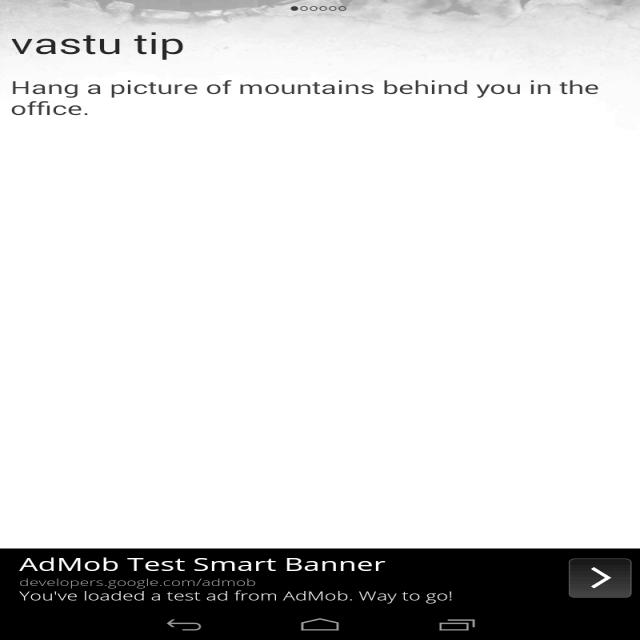Button: (562, 554, 637, 600)
TextView: (11, 76, 606, 96), (12, 580, 461, 602), (14, 552, 394, 574), (3, 32, 188, 60)
